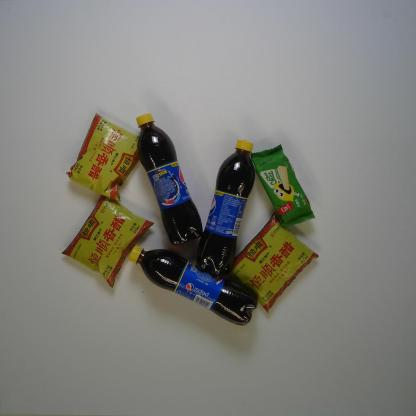Dessert: (250, 144, 316, 228)
Drink: (128, 244, 258, 327), (135, 113, 203, 245), (196, 139, 256, 279)
Seasoner: (229, 212, 320, 314), (61, 194, 154, 289), (65, 112, 145, 202)
